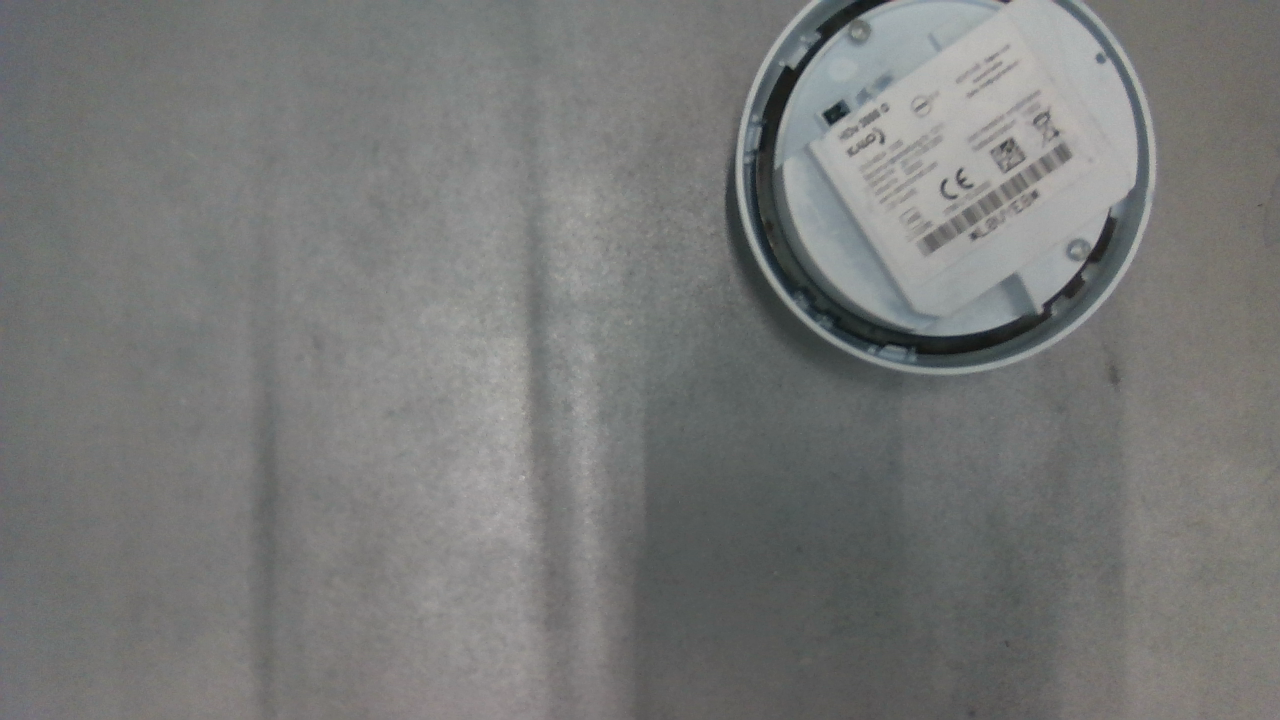HexScrew: (1066, 239, 1092, 264), (847, 18, 870, 46)
